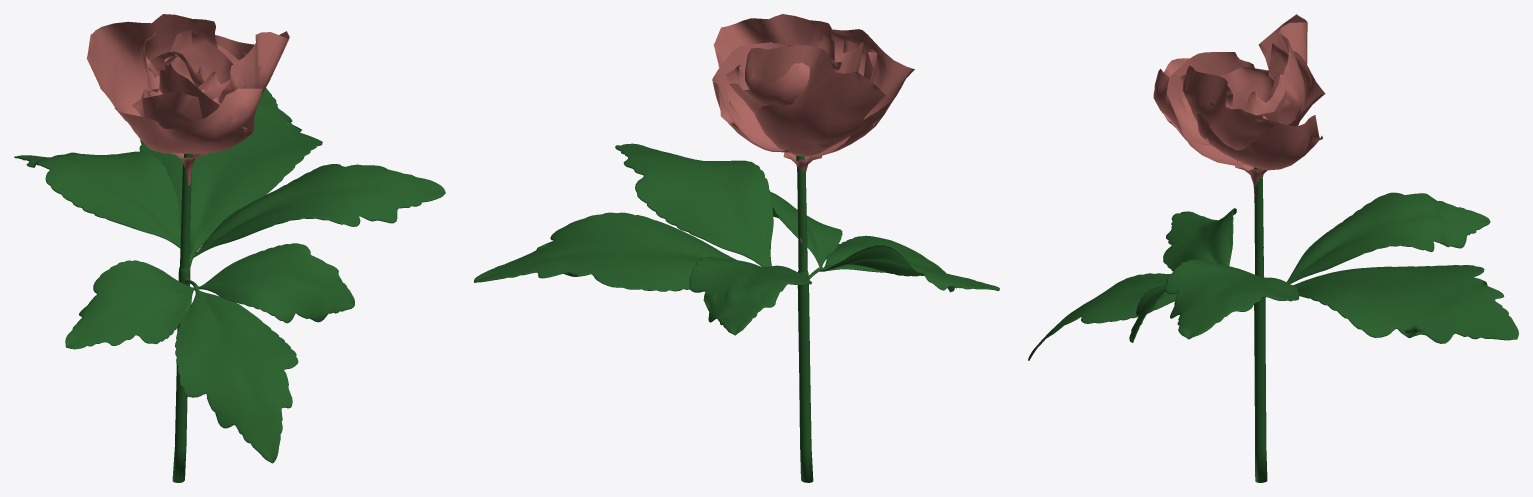
The model's file is peonymauvecp.glb.
The picture shows the model from 3 angles, left to right: view 1: azimuth 30°, elevation 25°; view 2: azimuth 150°, elevation 25°; view 3: azimuth 270°, elevation 25°; orthographic projection. The views are drawn at different scales.
Parts seen in each view (by area): view 1: maki.001; view 2: maki.001; view 3: maki.001.
Boxes of the visible parts, left/top/right/bottom form: maki.001: left=14, top=14, right=445, bottom=482; maki.001: left=474, top=14, right=999, bottom=482; maki.001: left=1028, top=14, right=1518, bottom=482.
Size of the model in its own units: 2.99 by 3.4 by 3.42.
